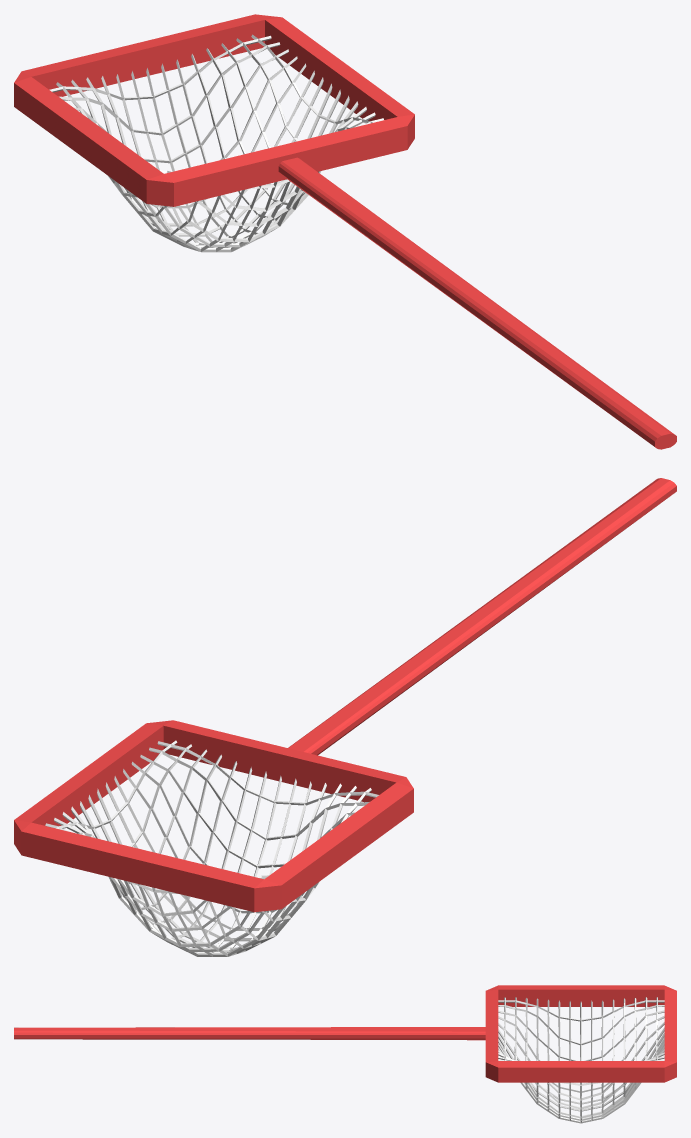
File: net LOD0.fbx
The picture shows the model from 3 angles, top to bottom: view 1: azimuth 30°, elevation 25°; view 2: azimuth 150°, elevation 25°; view 3: azimuth 270°, elevation 25°; orthographic projection. The views are drawn at different scales.
Visible parts, largest first — view 1: Куб.001, Плоскость, Куб; view 2: Куб.001, Плоскость, Куб; view 3: Куб.001, Плоскость, Куб.
Part boxes in pixels (bbox=[...]): Куб.001: bbox=[14, 14, 414, 206]; Плоскость: bbox=[49, 34, 383, 252]; Куб: bbox=[278, 157, 676, 449]; Куб.001: bbox=[14, 720, 413, 912]; Плоскость: bbox=[45, 740, 378, 956]; Куб: bbox=[288, 478, 676, 755]; Куб.001: bbox=[485, 985, 676, 1082]; Плоскость: bbox=[498, 997, 664, 1123]; Куб: bbox=[14, 1027, 485, 1040].
Bounding box in the file's own units: 396 × 210 × 1351.
